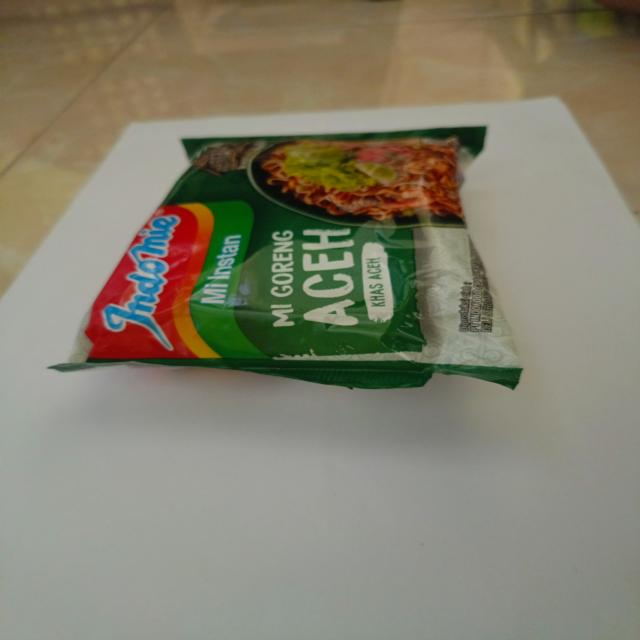gery-salut-coconut: (50, 122, 528, 397)
